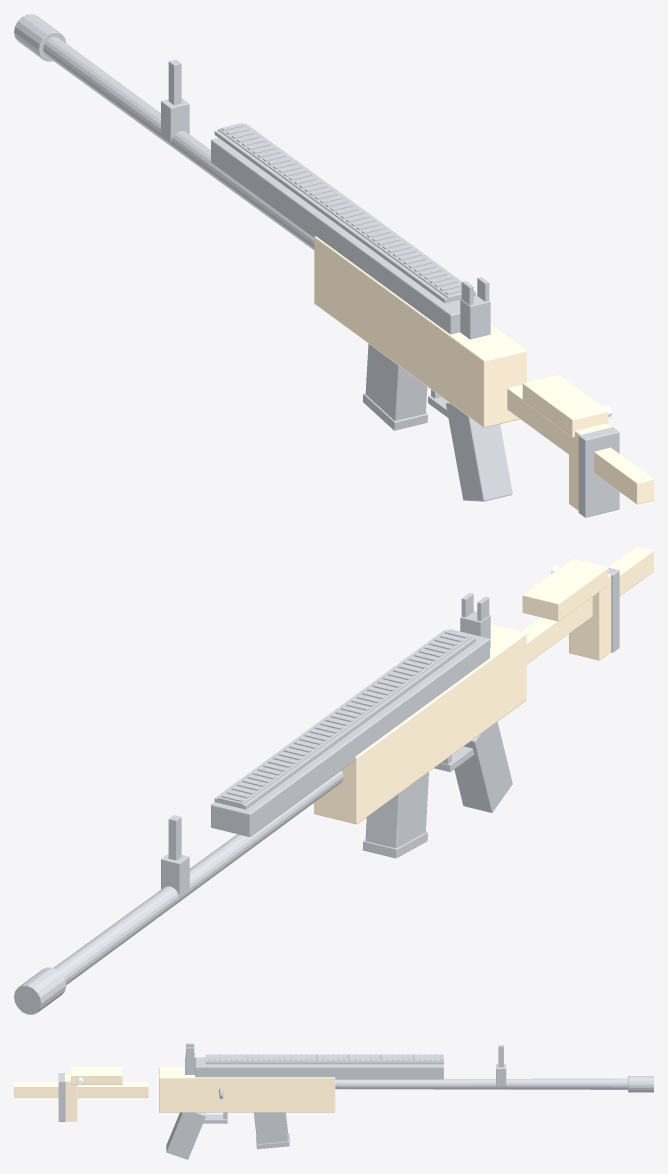
The picture shows the model from 3 angles, top to bottom: view 1: azimuth 30°, elevation 25°; view 2: azimuth 150°, elevation 25°; view 3: azimuth 270°, elevation 25°; orthographic projection. The views are drawn at different scales.
Visible parts, largest first — view 1: Receiver, TopRail, Handguard, Barrel, Grip, mag, StockTop, StockIrons, CheekRest, ButtPad, FlashHider, StockPlate; view 2: Receiver, TopRail, Handguard, Barrel, mag, Grip, CheekRest, StockTop, StockIrons, StockPlate, FlashHider, ButtPad; view 3: Receiver, Handguard, Barrel, TopRail, StockTop, Grip, mag, CheekRest, StockIrons, StockPlate, FlashHider, ButtPad (+1 smaller).
Boxes of the visible parts, x1,y1,x2,y2 form: Receiver: (314,236,526,427); TopRail: (214,123,475,303); Handguard: (211,138,460,334); Barrel: (43,37,314,250); Grip: (446,402,512,501); mag: (362,343,427,430); StockTop: (507,384,653,504); StockIrons: (161,59,490,339); CheekRest: (522,374,608,437); ButtPad: (578,427,619,517); FlashHider: (14,14,65,61); StockPlate: (569,423,610,510); Receiver: (314,624,526,824); TopRail: (214,629,475,809); Handguard: (211,629,489,836); Barrel: (54,770,343,984); mag: (362,772,428,858); Grip: (454,722,512,812); CheekRest: (522,559,608,621); StockTop: (520,546,653,664); StockIrons: (161,593,490,897); StockPlate: (569,573,611,660); FlashHider: (14,967,66,1014); ButtPad: (608,567,619,652); Receiver: (159,1067,335,1112); Handguard: (195,1057,443,1079); Barrel: (335,1078,627,1089); TopRail: (205,1054,443,1064); StockTop: (14,1082,148,1097); Grip: (166,1112,205,1159); mag: (254,1112,289,1149); CheekRest: (71,1066,122,1084); StockIrons: (185,1043,506,1086); StockPlate: (64,1073,77,1121); FlashHider: (628,1076,653,1092); ButtPad: (58,1073,65,1121).
Size of the model in its own units: 0.0663 by 0.2351 by 1.23.
